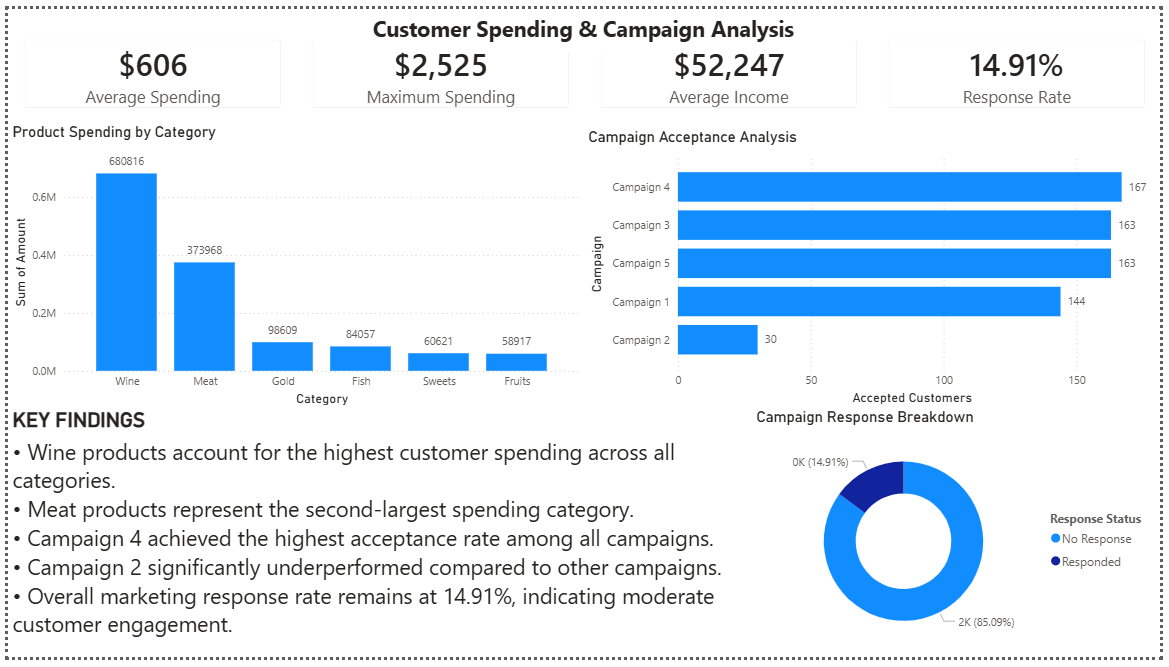

The dashboard page shown, as its layout file describes it:
{"tool":"powerbi","page":{"name":"Customer Spending & Campaign Analysis","canvas":[1280,720],"ordinal":2},"visuals":[{"type":"cardVisual","fields":{"Data":["age_group_distribution.Average Spending"]},"box":[0,16,320,110],"z":0},{"type":"cardVisual","fields":{"Data":["validation_summary.Average Income"]},"box":[640,16,320,110],"z":1},{"type":"cardVisual","fields":{"Data":["validation_summary.Response Rate"]},"box":[960,16,320,110],"z":2},{"type":"cardVisual","fields":{"Data":["age_group_distribution.Maximum Spending"]},"box":[320,16,320,110],"z":3},{"type":"clusteredColumnChart","title":"Product Spending by Category","fields":{"Category":["product_spending_analysis.Category"],"Y":["Sum(product_spending_analysis.Amount)"]},"box":[0,126,640,318],"z":4},{"type":"clusteredBarChart","title":"Campaign Acceptance Analysis","fields":{"Category":["campaign_acceptance_analysis.Campaign"],"Y":["Sum(campaign_acceptance_analysis.Accepted)"]},"box":[640,132,640,312],"z":5},{"type":"donutChart","title":"Campaign Response Breakdown","fields":{"Y":["Sum(campaign_response_analysis.Count)"],"Category":["campaign_response_analysis.Response Status"]},"box":[826,444,454,276],"z":6},{"type":"textbox","title":"KEY FINDINGS","box":[0,444,826,276],"z":7},{"type":"textbox","box":[340,0,598.3,48.3],"z":9}]}

Visuals, with their boxes in screenshot pixels (x1, y1, x2, y2), scaled from the page's 1280x720 canvas onto the 1169x667 screenshot:
cardVisual - age_group_distribution.Average Spending: bbox=[0, 15, 292, 117]
cardVisual - validation_summary.Average Income: bbox=[584, 15, 877, 117]
cardVisual - validation_summary.Response Rate: bbox=[877, 15, 1168, 117]
cardVisual - age_group_distribution.Maximum Spending: bbox=[292, 15, 584, 117]
"Product Spending by Category" clusteredColumnChart: bbox=[0, 117, 584, 411]
"Campaign Acceptance Analysis" clusteredBarChart: bbox=[584, 122, 1168, 411]
"Campaign Response Breakdown" donutChart: bbox=[754, 411, 1168, 666]
"KEY FINDINGS" textbox: bbox=[0, 411, 754, 666]
textbox: bbox=[311, 0, 857, 45]
